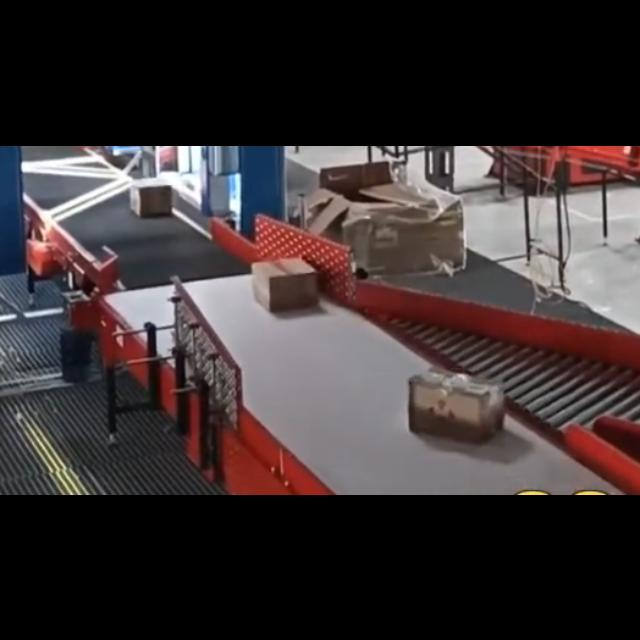box: (408, 366, 506, 442), (252, 258, 318, 312), (128, 175, 174, 215)
